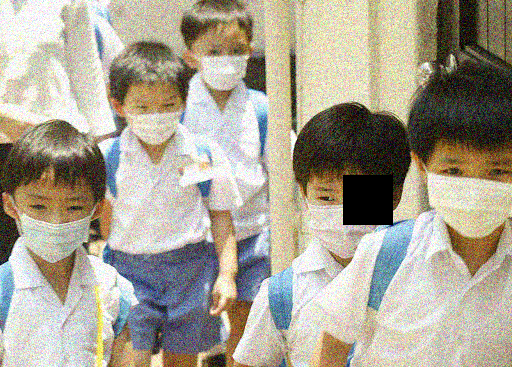with_mask: (424, 153, 512, 242), (307, 180, 388, 260), (16, 191, 92, 265), (124, 92, 183, 147), (196, 39, 249, 93)
